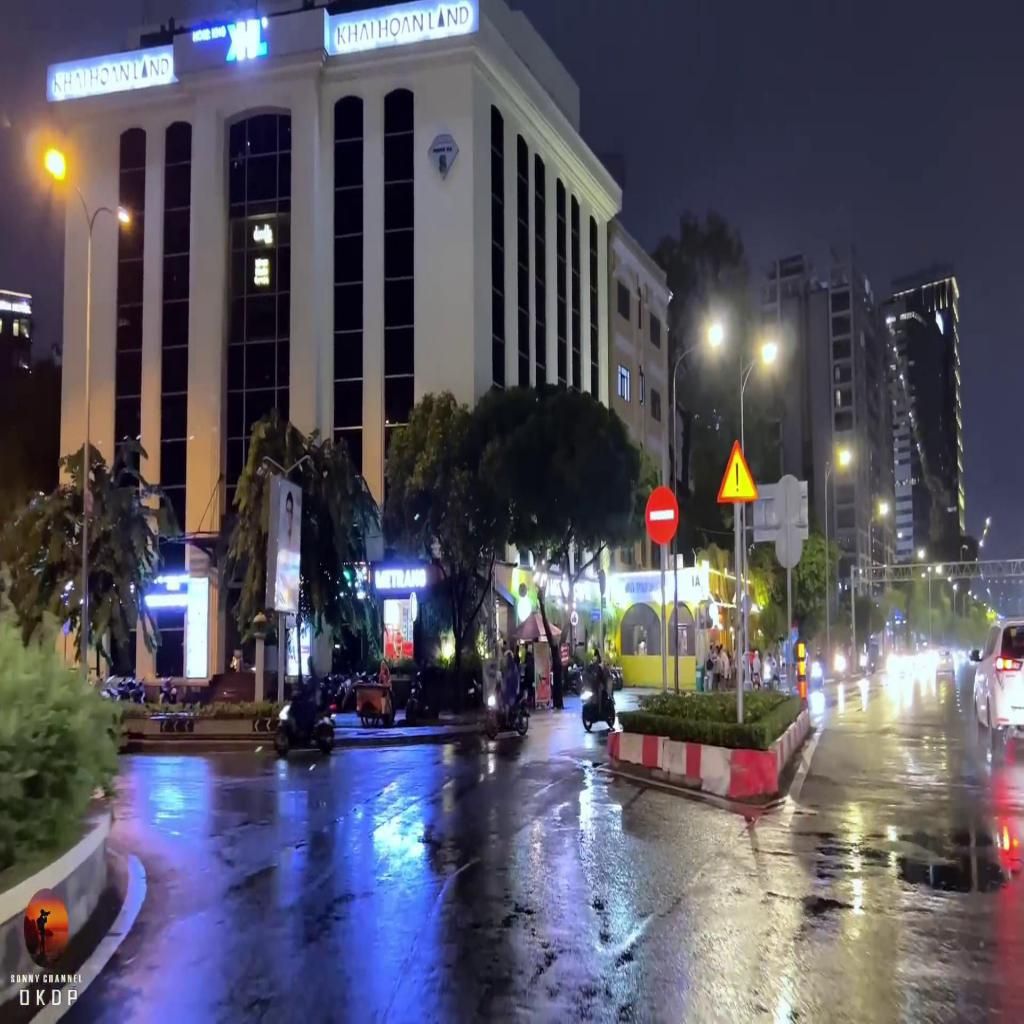cam_xe_di_nguoc_chieu: (645, 486, 678, 544)
nguy_hiem_khac: (715, 437, 760, 503)
